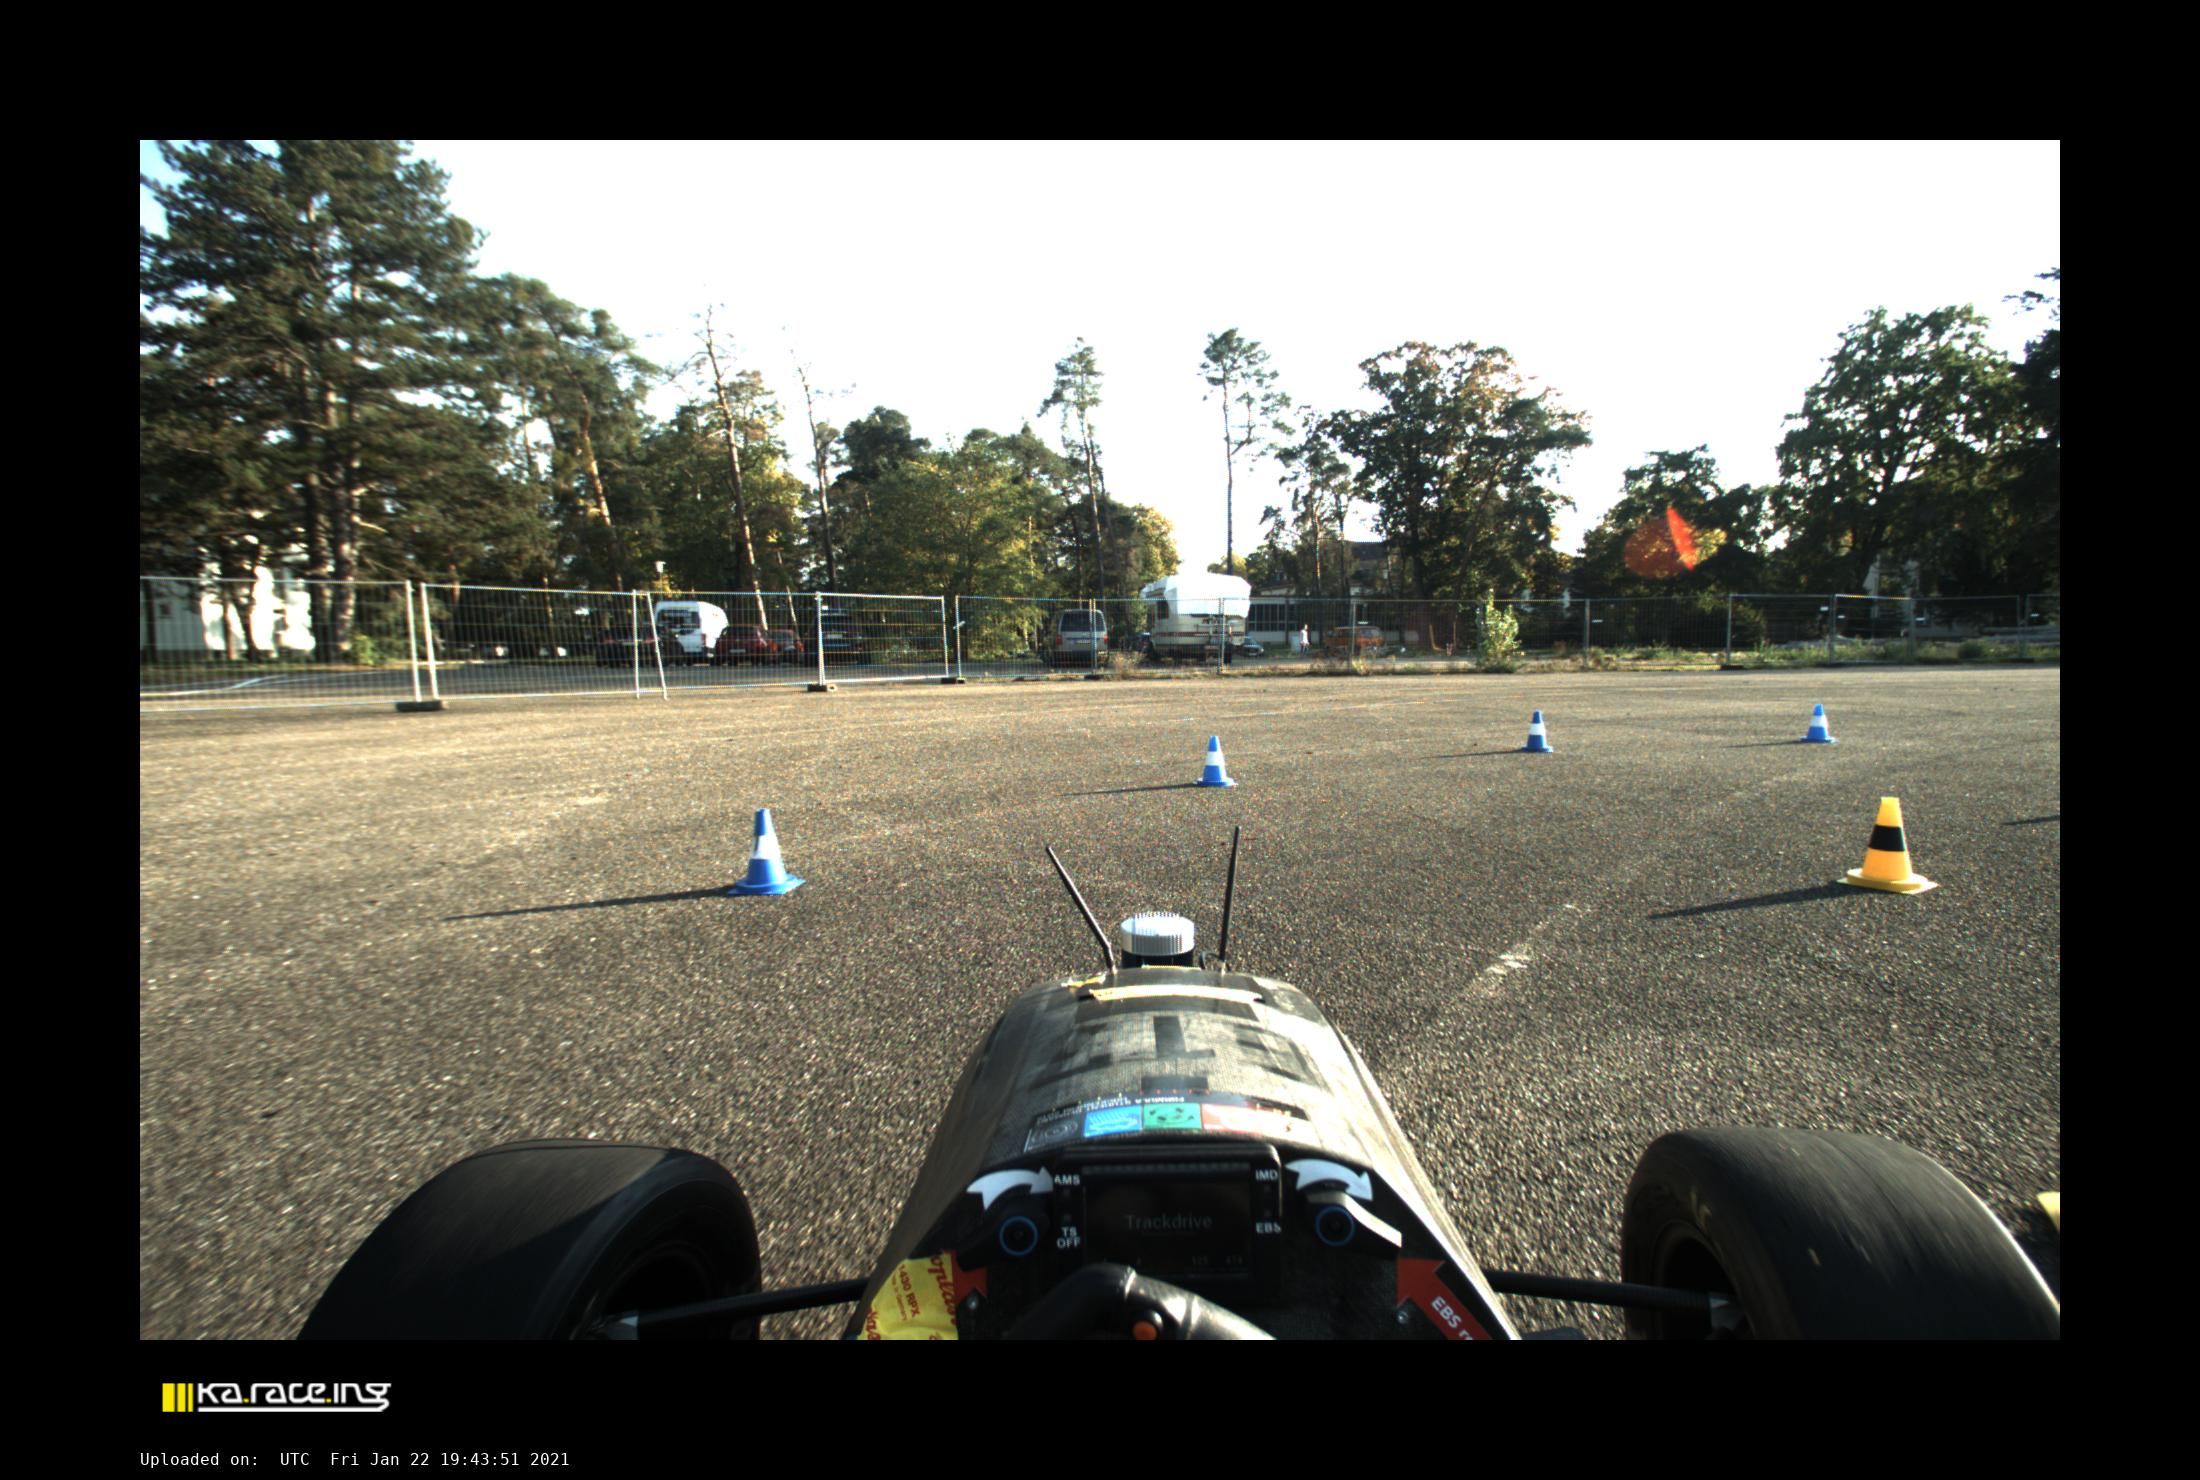blue_cone: (728, 809, 806, 895), (1192, 737, 1239, 786), (1520, 710, 1554, 753), (1800, 704, 1837, 743)
yellow_cone: (1837, 798, 1937, 894)
